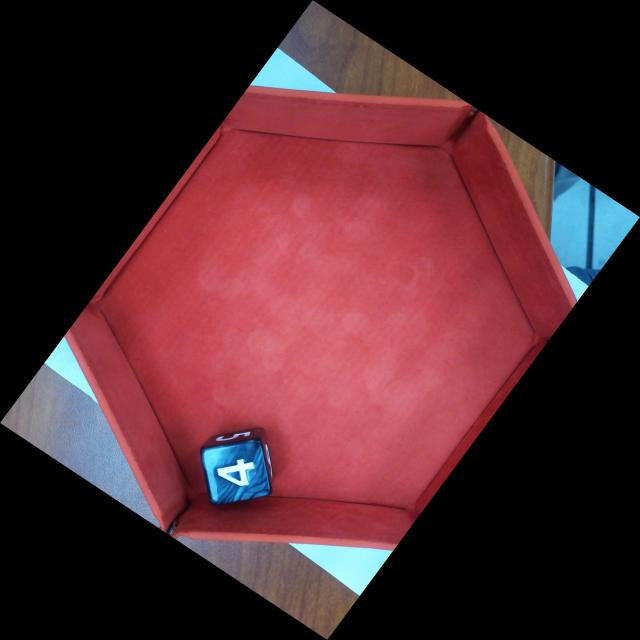dice: (210, 442, 269, 507)
